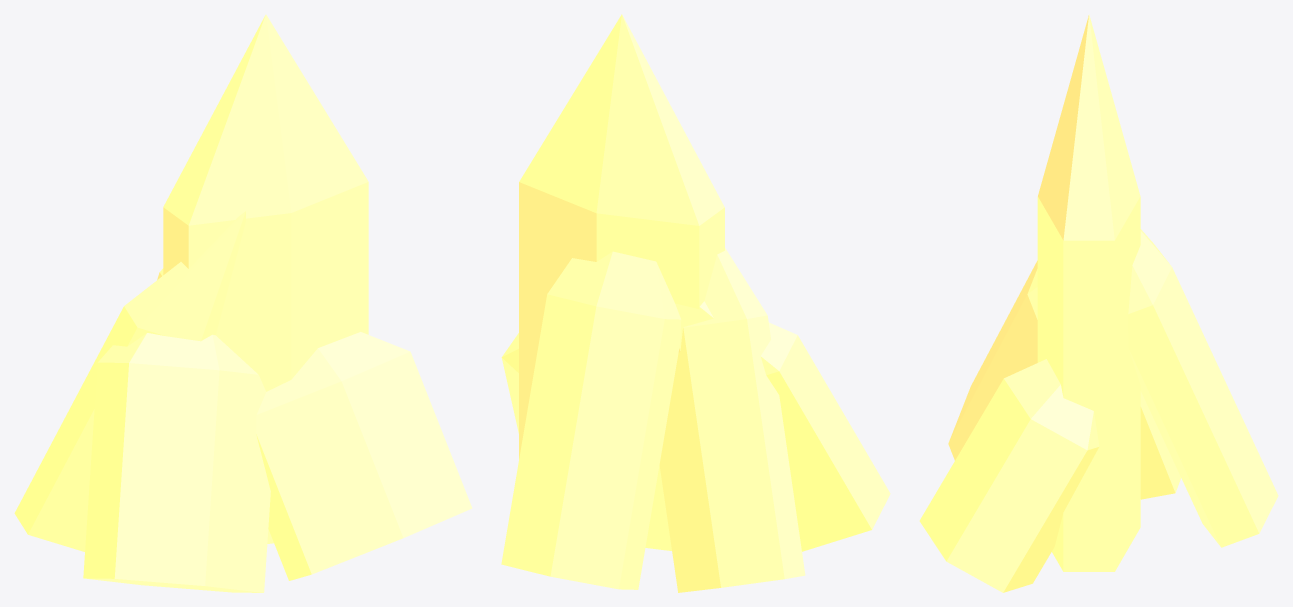
The model's file is cryst7.glb.
The picture shows the model from 3 angles, left to right: view 1: azimuth 30°, elevation 25°; view 2: azimuth 150°, elevation 25°; view 3: azimuth 270°, elevation 25°; orthographic projection.
Visible parts, largest first — view 1: shard; view 2: shard; view 3: shard.
Part boxes in pixels (left/top/right/bottom): shard: left=14, top=14, right=472, bottom=592; shard: left=501, top=14, right=890, bottom=592; shard: left=919, top=14, right=1278, bottom=592.
Size of the model in its own units: 5.9 by 8.52 by 5.08.
